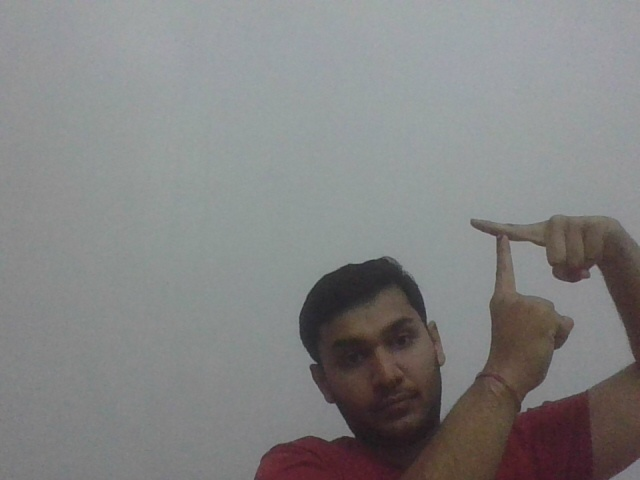T: (466, 214, 537, 292)
